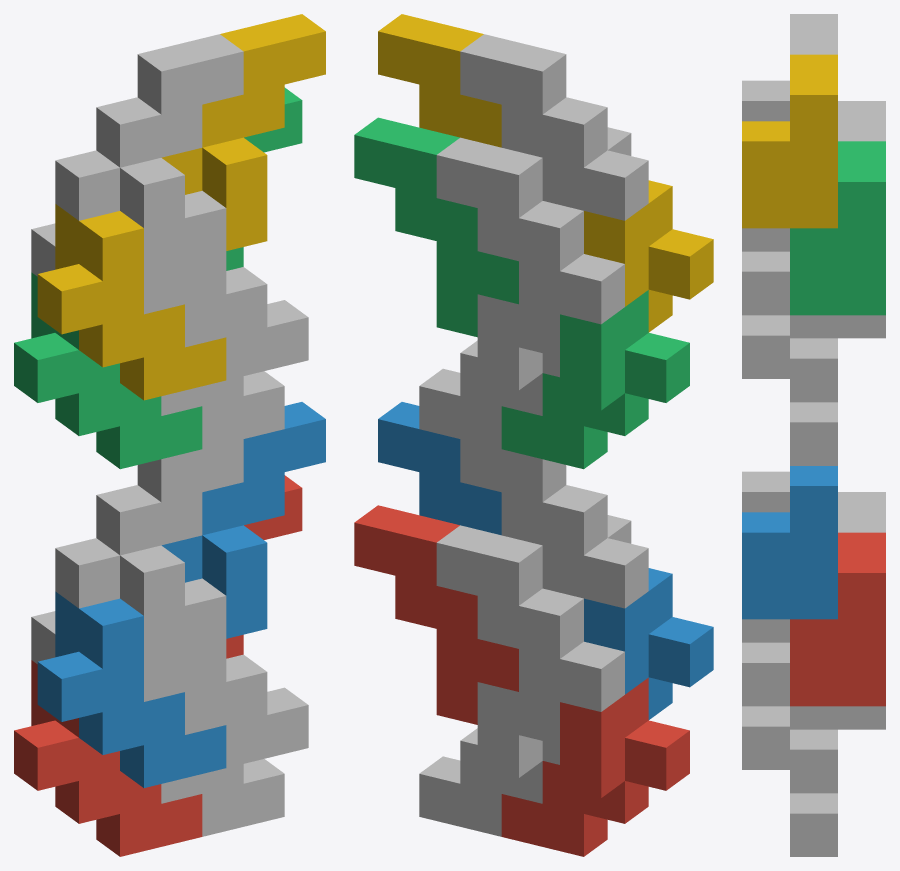
The model's file is tiling.obj.
3 views of the same model, side by side, from view 1: azimuth 30°, elevation 25°; view 2: azimuth 150°, elevation 25°; view 3: azimuth 270°, elevation 25° (orthographic).
Parts seen in each view (by area): view 1: copy_2_domain_4, copy_1_domain_2, copy_1_domain_4, copy_2_domain_2, copy_2_domain_8, copy_1_domain_8, copy_1_domain_6, copy_2_domain_6, copy_1_domain_3, copy_1_domain_1, copy_1_domain_5, copy_1_domain_7 (+4 smaller); view 2: copy_2_domain_1, copy_2_domain_3, copy_2_domain_4, copy_1_domain_3, copy_1_domain_1, copy_2_domain_2, copy_2_domain_7, copy_2_domain_5, copy_1_domain_5, copy_1_domain_7, copy_1_domain_4, copy_1_domain_2 (+2 smaller); view 3: copy_2_domain_8, copy_2_domain_5, copy_2_domain_7, copy_2_domain_6, copy_1_domain_5, copy_1_domain_7, copy_1_domain_6, copy_1_domain_8, copy_2_domain_4, copy_2_domain_2, copy_2_domain_1, copy_2_domain_3.
Boxes of the visible parts, box(x1,y1,x2,y2) form: copy_2_domain_4: box(55, 34, 243, 271); copy_1_domain_2: box(37, 591, 226, 787); copy_1_domain_4: box(37, 204, 226, 400); copy_2_domain_2: box(55, 439, 243, 658); copy_2_domain_8: box(161, 14, 325, 250); copy_1_domain_8: box(144, 190, 308, 380); copy_1_domain_6: box(144, 578, 308, 767); copy_2_domain_6: box(161, 402, 325, 638); copy_1_domain_3: box(14, 272, 202, 469); copy_1_domain_1: box(14, 660, 202, 856); copy_1_domain_5: box(161, 759, 284, 836); copy_1_domain_7: box(161, 371, 284, 448); copy_2_domain_1: box(436, 525, 624, 744); copy_2_domain_3: box(436, 137, 624, 357); copy_2_domain_4: box(460, 34, 648, 220); copy_1_domain_3: box(501, 290, 689, 469); copy_1_domain_1: box(501, 677, 689, 856); copy_2_domain_2: box(460, 439, 648, 608); copy_2_domain_7: box(354, 117, 518, 337); copy_2_domain_5: box(354, 505, 518, 724); copy_1_domain_5: box(419, 682, 559, 836); copy_1_domain_7: box(419, 294, 559, 448); copy_1_domain_4: box(584, 180, 713, 332); copy_1_domain_2: box(584, 568, 713, 719); copy_2_domain_8: box(742, 54, 837, 228); copy_2_domain_5: box(790, 532, 885, 706); copy_2_domain_7: box(790, 141, 885, 315); copy_2_domain_6: box(742, 466, 837, 619); copy_1_domain_5: box(790, 706, 885, 856); copy_1_domain_7: box(790, 315, 885, 465); copy_1_domain_6: box(742, 619, 789, 769); copy_1_domain_8: box(742, 228, 789, 378); copy_2_domain_4: box(742, 14, 837, 121); copy_2_domain_2: box(742, 471, 789, 512); copy_2_domain_1: box(838, 492, 885, 532); copy_2_domain_3: box(838, 101, 885, 141).
Size of the model in its own units: 7 by 18 by 3.
